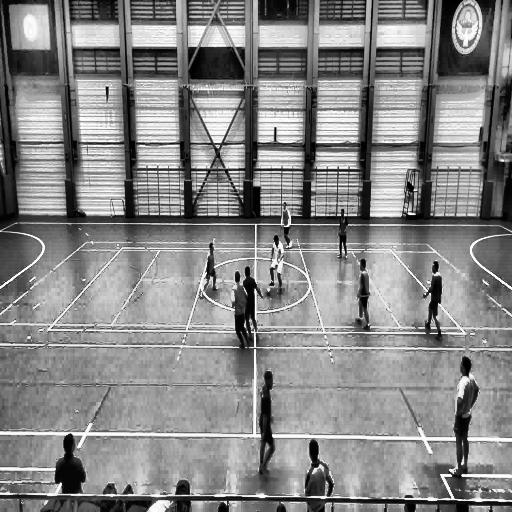ball: (266, 288, 270, 295)
player: (448, 358, 478, 476), (305, 440, 334, 511), (260, 372, 275, 476), (423, 261, 442, 342), (242, 266, 259, 342), (356, 258, 370, 331), (270, 234, 284, 292), (204, 242, 217, 292), (337, 208, 347, 258), (282, 203, 292, 247)
